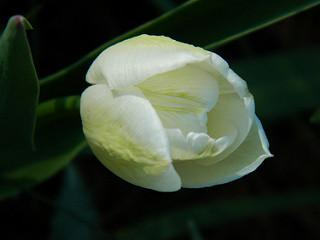tulip: (81, 34, 274, 191)
